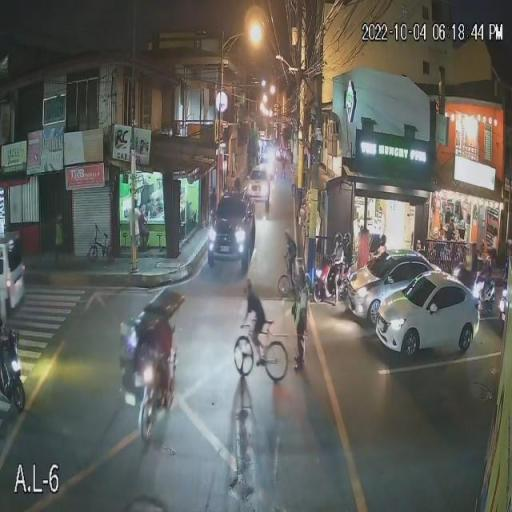helmet: (150, 318, 164, 332), (483, 258, 493, 267), (331, 232, 340, 241)
motorcycle: (119, 330, 177, 444), (0, 326, 27, 415), (470, 275, 510, 325), (304, 261, 346, 306)
rider: (146, 318, 176, 400), (331, 227, 352, 308), (483, 257, 504, 303)
